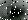person: (5, 7, 11, 16)
